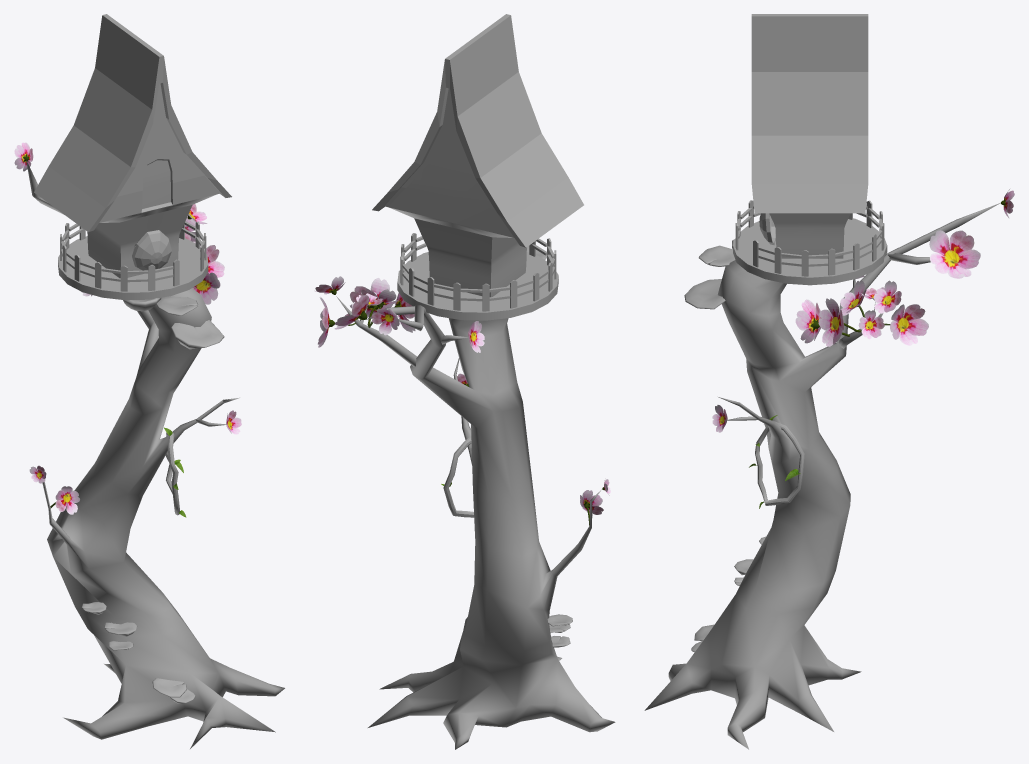
The model's file is tree_house_MDL.fbx.
3 renders of one model, left to right at view 1: azimuth 30°, elevation 25°; view 2: azimuth 150°, elevation 25°; view 3: azimuth 270°, elevation 25°, orthographic. The views are drawn at different scales.
Parts seen in each view (by area): view 1: Line02, polySurface81, polySurface83, pCylinder1, polySurface82, polySurface88, pSphere6, polySurface92 (×2), pSphere12, pTorus1, pSphere7, pSphere16; view 2: Line02, polySurface81, polySurface83, polySurface82, pCylinder1, polySurface88, pTorus1, polySurface92; view 3: Line02, polySurface81, polySurface92 (×5), pCylinder1, polySurface82, polySurface88, pTorus1, pSphere12.
Boxes of the visible parts, x1,y1,x2,y2 form: Line02: [26, 160, 284, 748]; polySurface81: [34, 14, 231, 232]; polySurface83: [99, 83, 220, 222]; pCylinder1: [58, 236, 208, 300]; polySurface82: [87, 205, 192, 278]; polySurface88: [60, 221, 206, 291]; pSphere6: [132, 230, 171, 270]; polySurface92 (×2): [55, 272, 220, 514]; pSphere12: [171, 320, 224, 349]; pTorus1: [165, 432, 179, 515]; pSphere7: [156, 296, 197, 315]; pSphere16: [152, 678, 186, 697]; Line02: [336, 296, 615, 749]; polySurface81: [372, 14, 583, 247]; polySurface83: [384, 88, 514, 237]; polySurface82: [414, 218, 526, 297]; pCylinder1: [397, 252, 558, 320]; polySurface88: [400, 233, 556, 311]; pTorus1: [443, 436, 474, 517]; polySurface92: [371, 308, 399, 335]; Line02: [644, 203, 1000, 749]; polySurface81: [751, 14, 868, 213]; polySurface92 (×5): [795, 230, 980, 346]; pCylinder1: [733, 218, 887, 285]; polySurface82: [769, 213, 850, 258]; polySurface88: [735, 200, 884, 276]; pTorus1: [755, 420, 804, 505]; pSphere12: [684, 279, 725, 309].
Size of the model in its own units: 126 by 338 by 168.
Materials: 6 (4 with a texture image).
